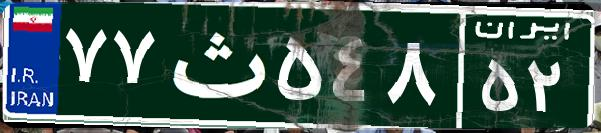2: (525, 38, 570, 115)
4: (330, 28, 385, 110)
5: (273, 28, 330, 110), (475, 38, 525, 113)
7: (57, 26, 110, 107), (110, 28, 158, 105)
8: (385, 28, 445, 110)
ث: (158, 15, 273, 115)
